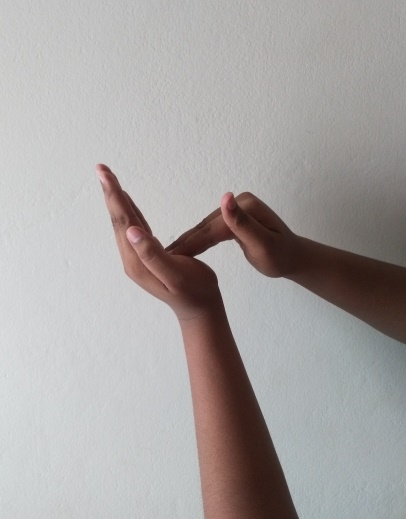ga: (93, 163, 304, 317)
